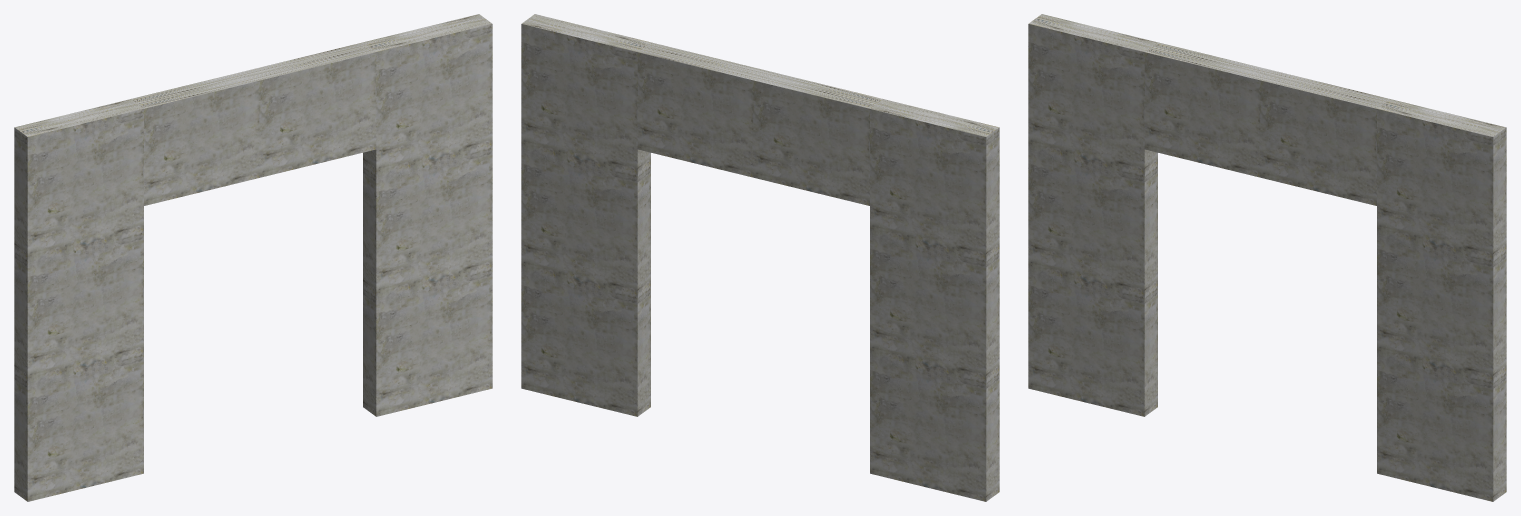
Rendered from wall-door.gltf.
3 renders of one model, left to right at view 1: azimuth 30°, elevation 25°; view 2: azimuth 150°, elevation 25°; view 3: azimuth 330°, elevation 25°, orthographic.
Visible parts, largest first — view 1: wall-door; view 2: wall-door; view 3: wall-door.
Boxes of the visible parts, x1,y1,x2,y2 form: wall-door: (14,14,492,501); wall-door: (521,14,999,501); wall-door: (1028,14,1506,501).
Size of the model in its own units: 4 by 3 by 0.2.
Materials: 1 (1 with a texture image).
